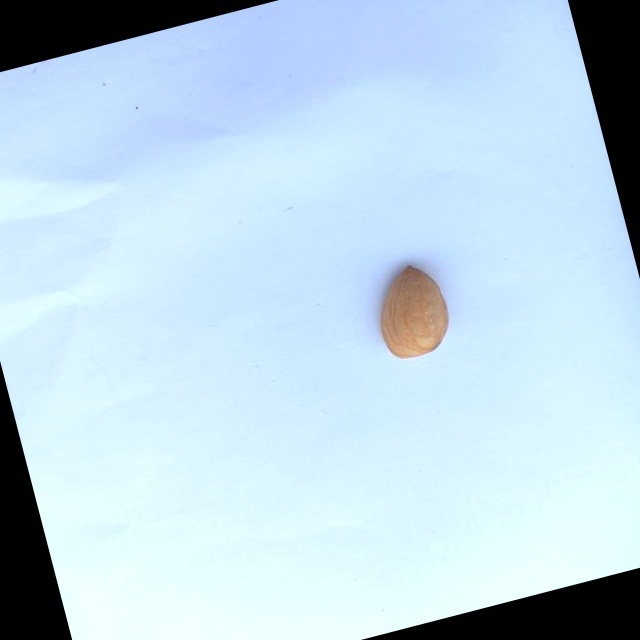grade2: (360, 256, 461, 369)
